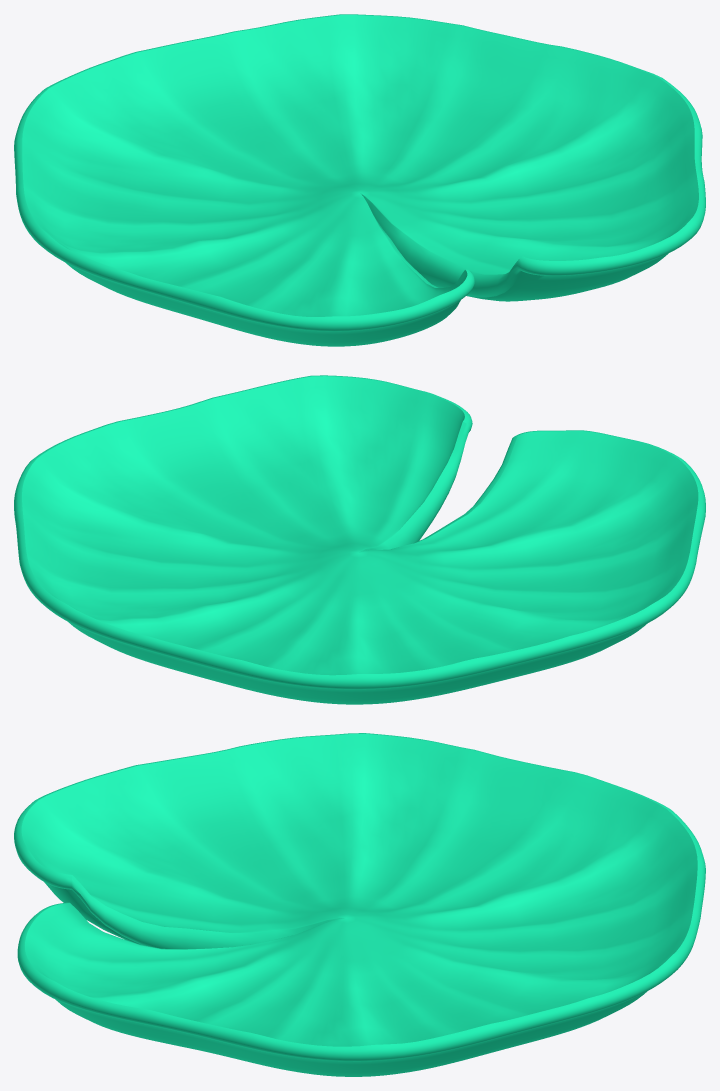
Rendered from LilyPad_Green.glb.
The picture shows the model from 3 angles, top to bottom: view 1: azimuth 30°, elevation 25°; view 2: azimuth 150°, elevation 25°; view 3: azimuth 270°, elevation 25°; orthographic projection. The views are drawn at different scales.
Visible parts, largest first — view 1: LilyPad_Green; view 2: LilyPad_Green; view 3: LilyPad_Green.
Part boxes in pixels (bbox=[...]): LilyPad_Green: bbox=[14, 14, 705, 346]; LilyPad_Green: bbox=[14, 375, 705, 704]; LilyPad_Green: bbox=[14, 733, 705, 1076].
Bounding box in the file's own units: 2 × 0.3388 × 1.84.
